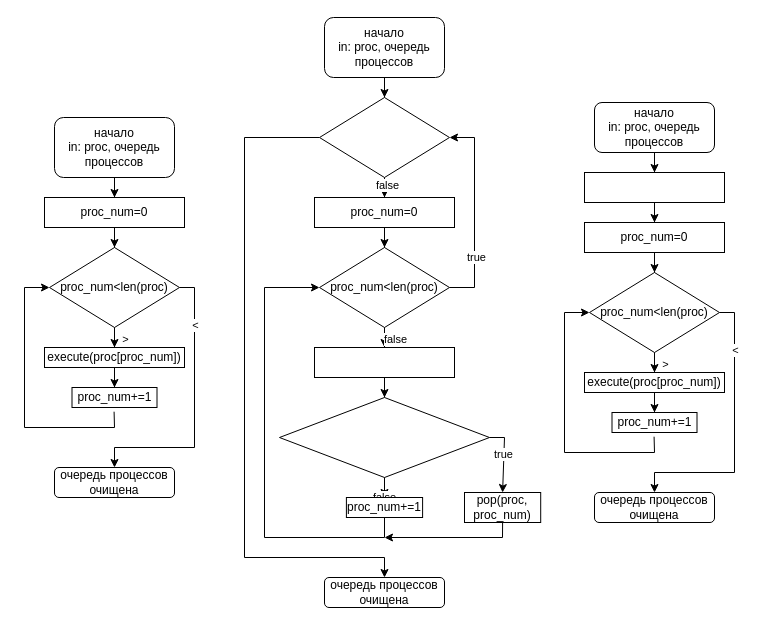
The diagram is 760 pixels wide and 625 high, and some of its shapes have lost their labels. Here are the shapes that lost their labels. From the top down, the centre of each, then its label:
[384,137]: isEmpty(proc)
[654,187]: sort(proc, param=priority)
[384,362]: execute(proc[proc_num], timeQuant)
[384,437]: isCompleted(proc[proc_num])
